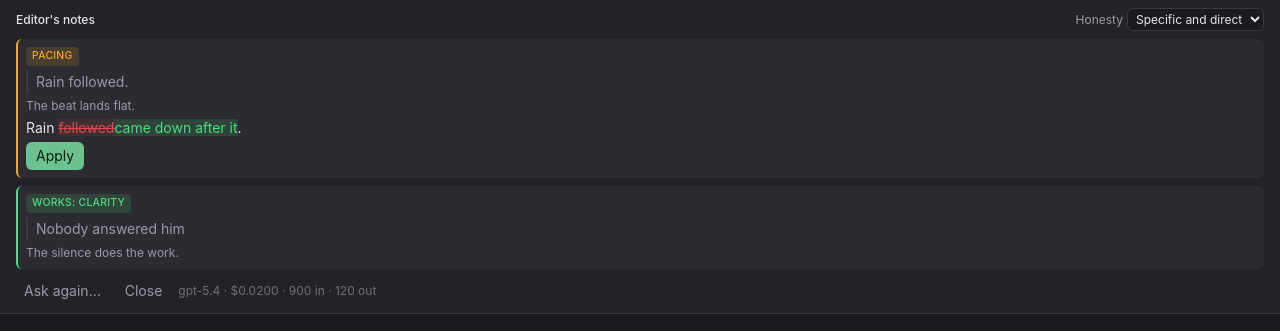
Test: CritiquePanel (F-14.8) › Ask again… asks for a note, settles the shown proposal, and sends it again
Step 1. Click the button with test id "critique-regenerate" → (62, 291), box left=16, top=277, right=109, bottom=305
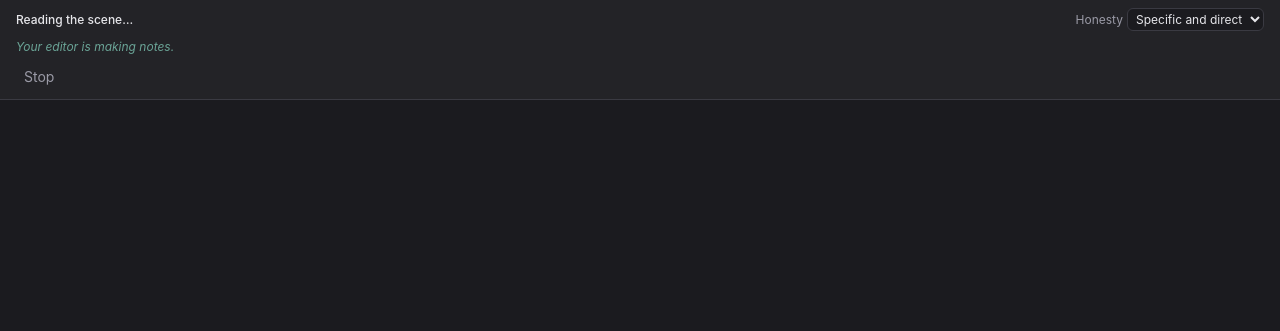
Expected: the message "Your editor is making notes." is shown, left=16, top=39, right=1264, bottom=55
